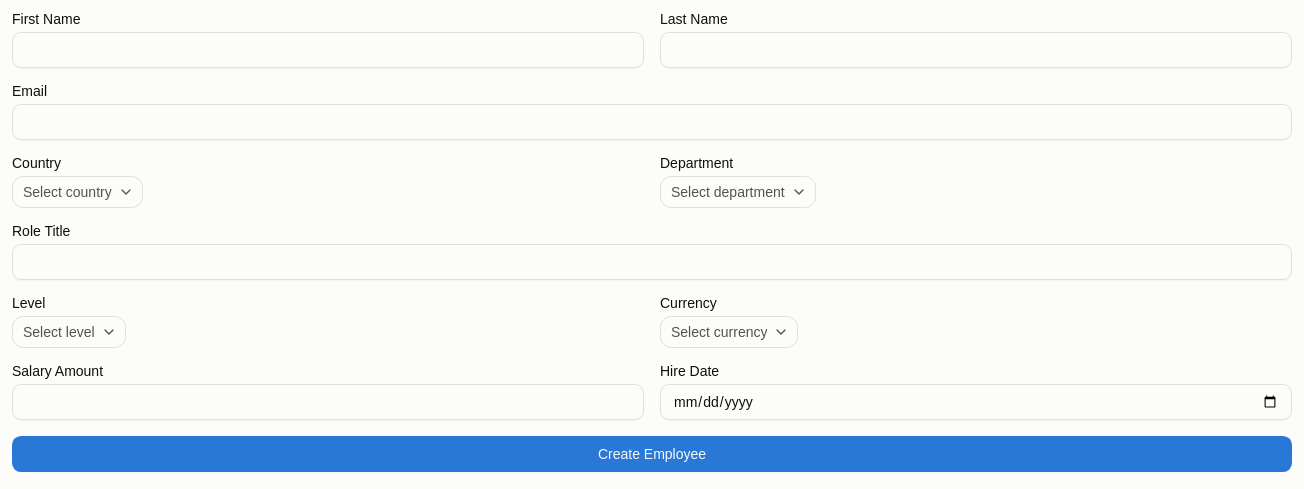
CreateEmployeeForm › sources department/country/level options from GET /employees/options, not a hardcoded list
The width and height of the screenshot is (1304, 489).
Click the dropdown labelled "Select country ▼" at {"x": 77, "y": 192}, box [12,176,143,208]
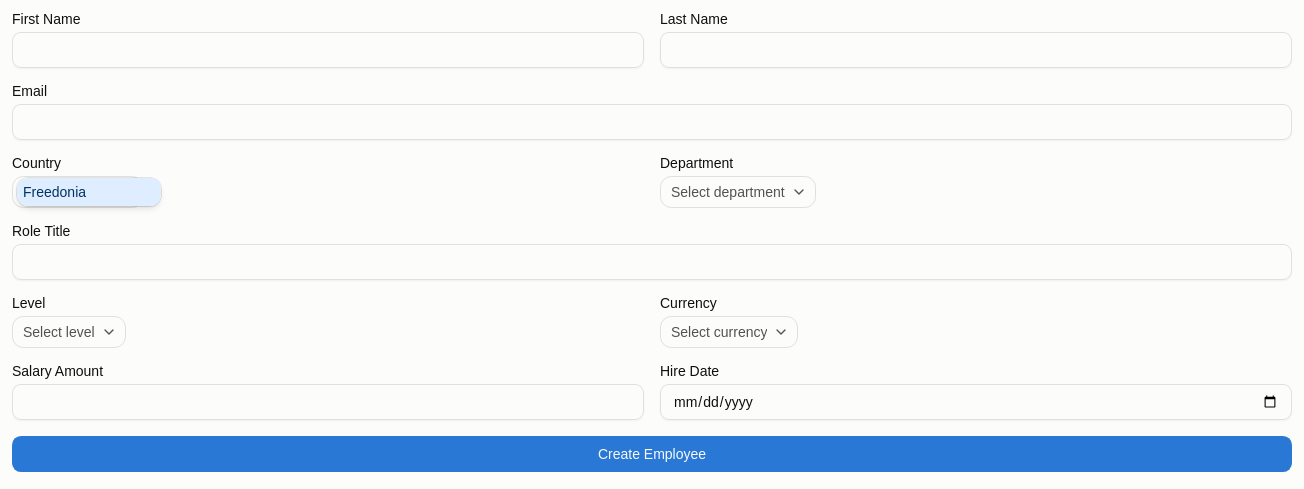
Expected: the option "Freedonia" is shown, [17,178,161,206]
Press Escape
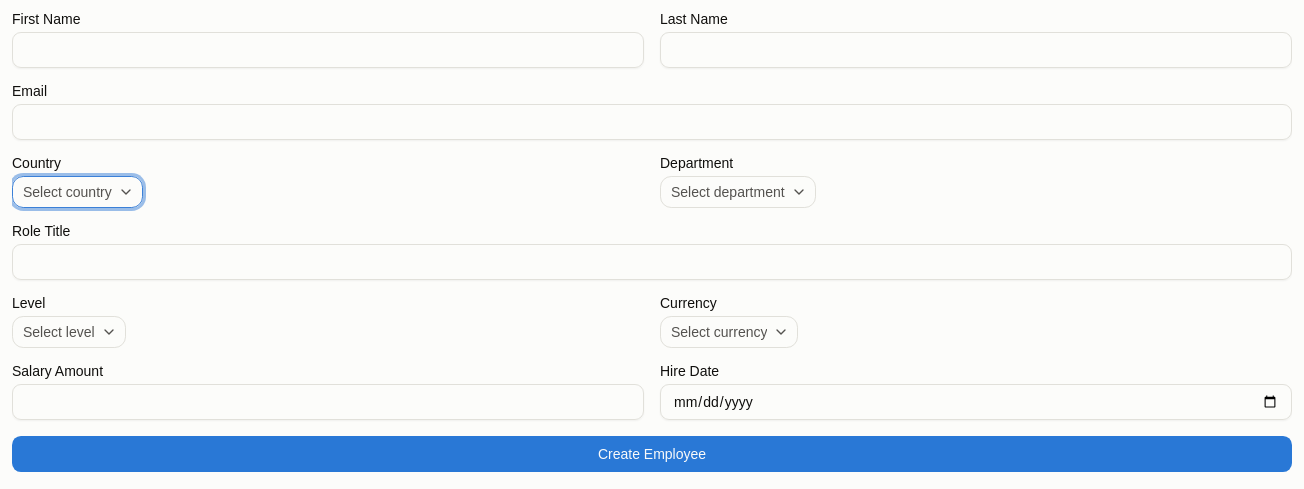
Click the dropdown labelled "Select department ▼" at {"x": 738, "y": 192}, box [660,176,816,208]
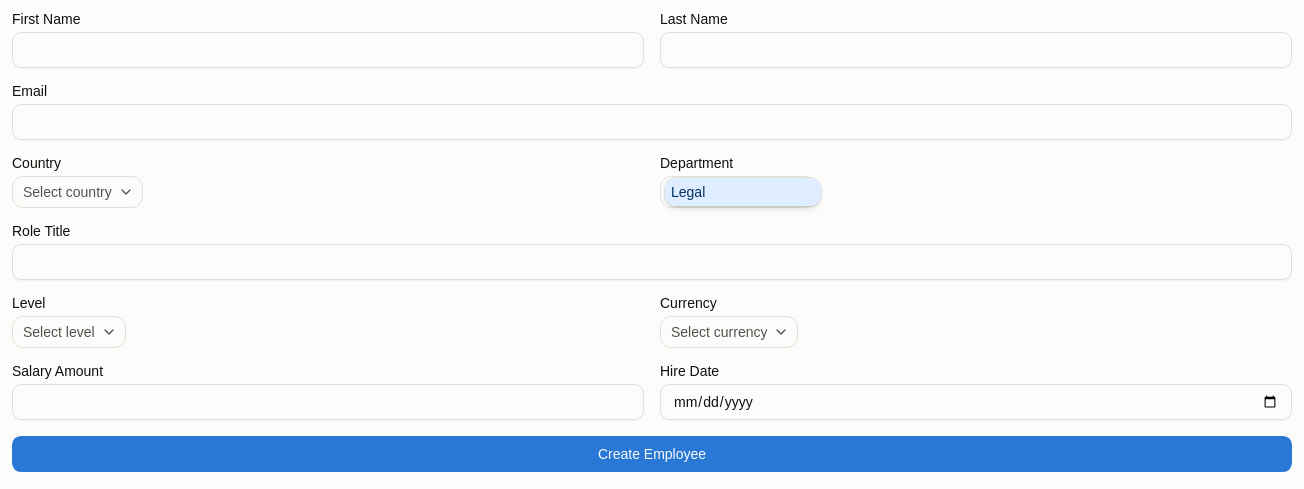
Expected: the option "Legal" is shown, [665,178,821,206]
Press Escape
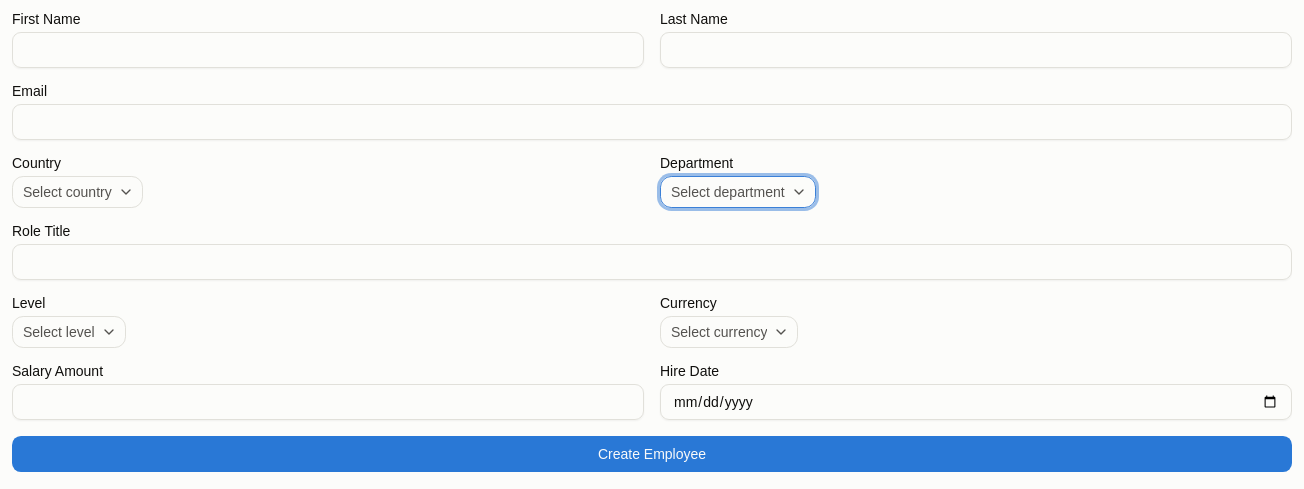
Click the dropdown labelled "Select level ▼" at {"x": 69, "y": 332}, box [12,316,126,348]
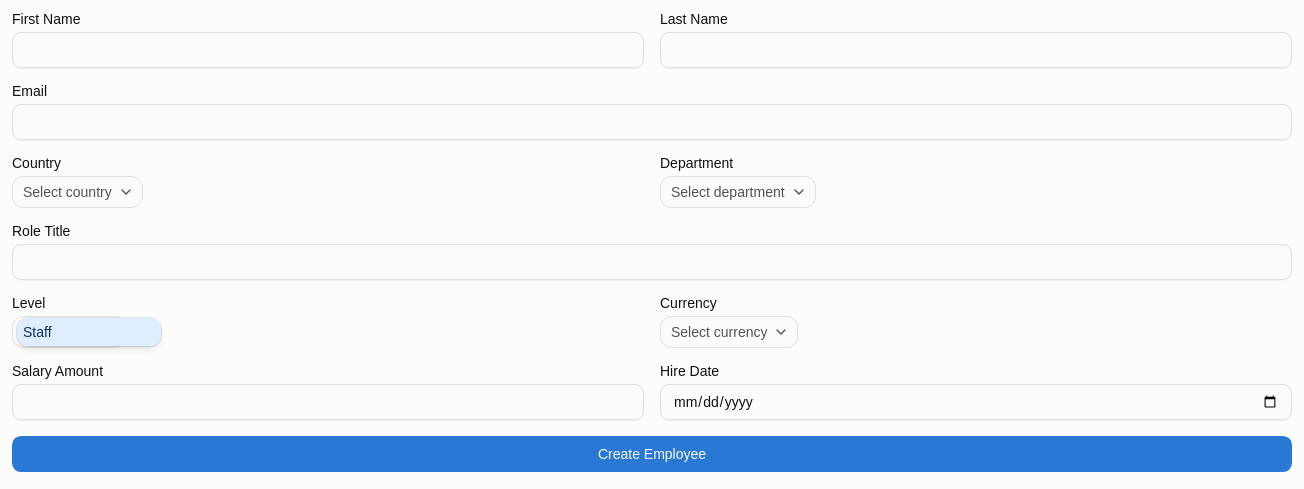
Expected: the option "Staff" is shown, [17,318,161,346]
